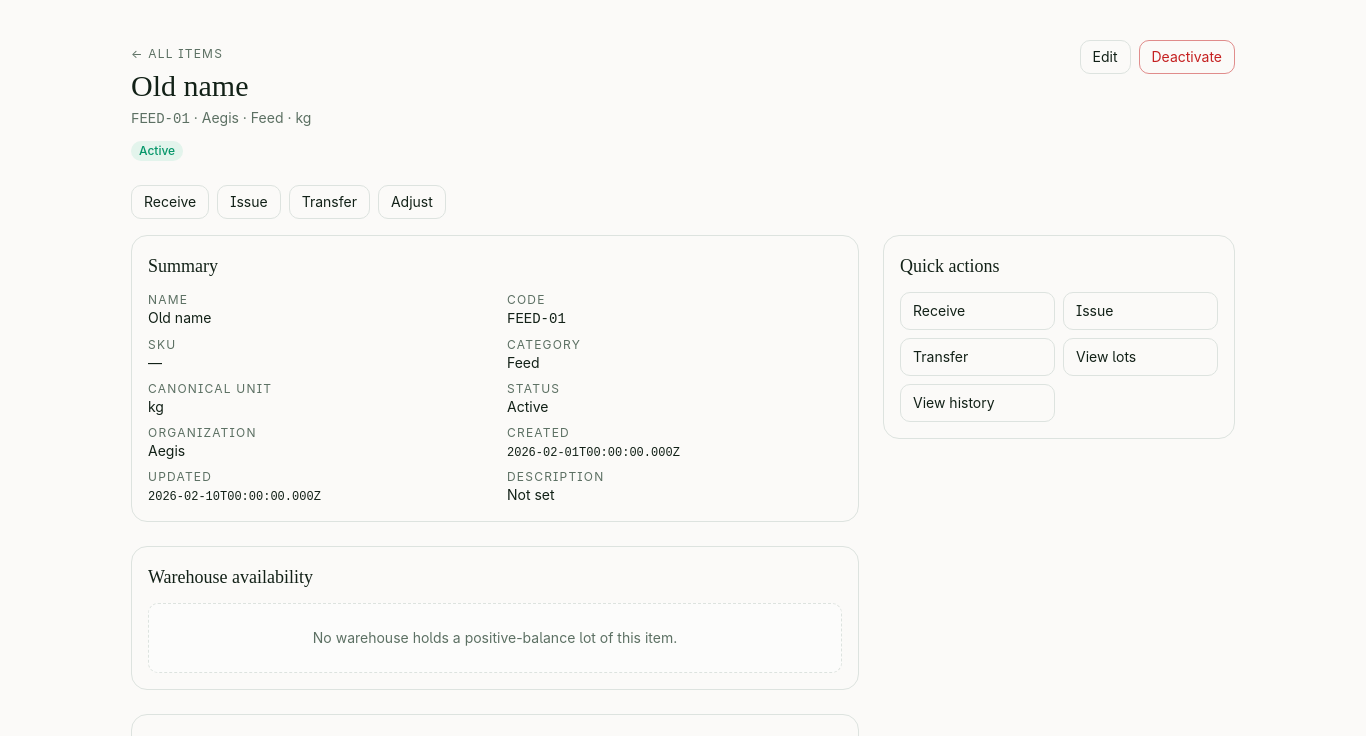
Scenario: Item edit + lifecycle › edit form submits name/description/sku via PATCH and rehydrates the header
expect the heading with test id "item-header-name" reads "Old name": met, box [131,69,248,102]
Click the button with test id "item-header-edit" at (1105, 57), box [1080,40,1130,74]
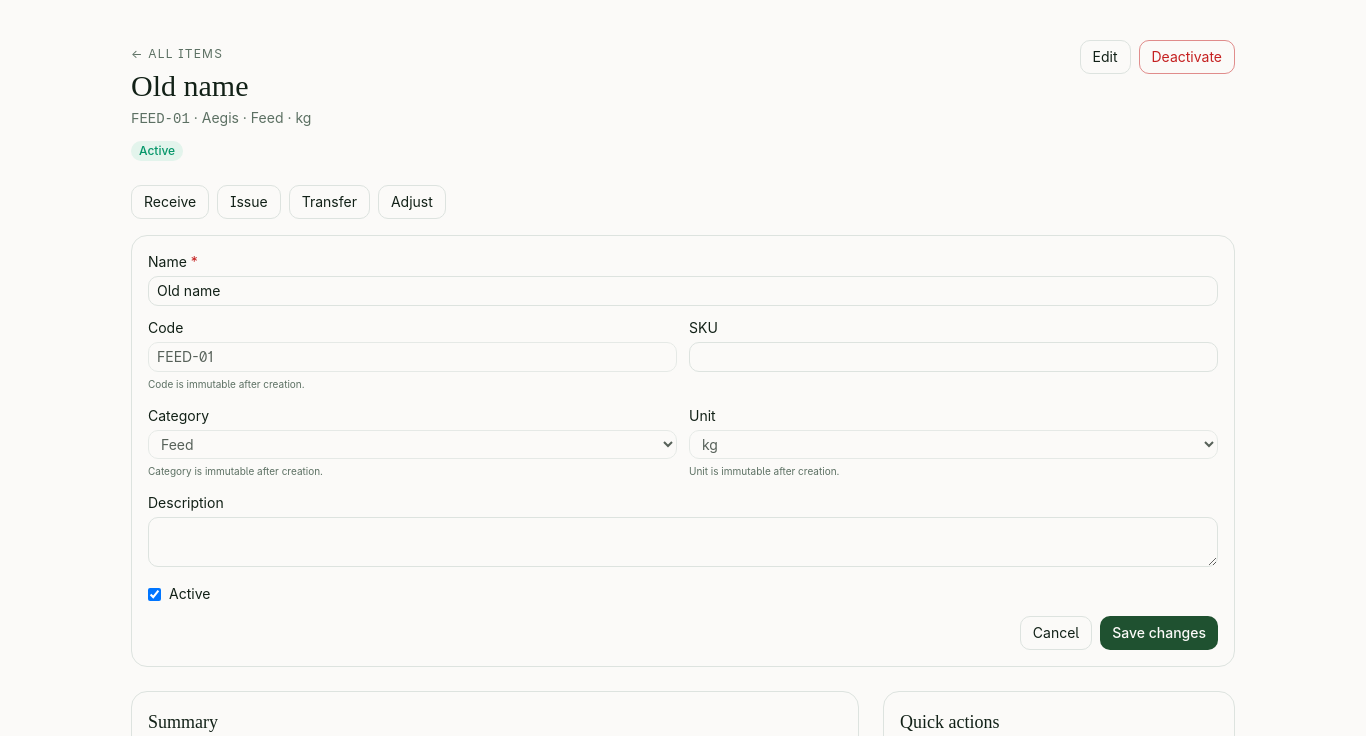
Replace the text in the field with test id "item-form-edit-name" with "New name" at (683, 291), box [148,276,1218,306]
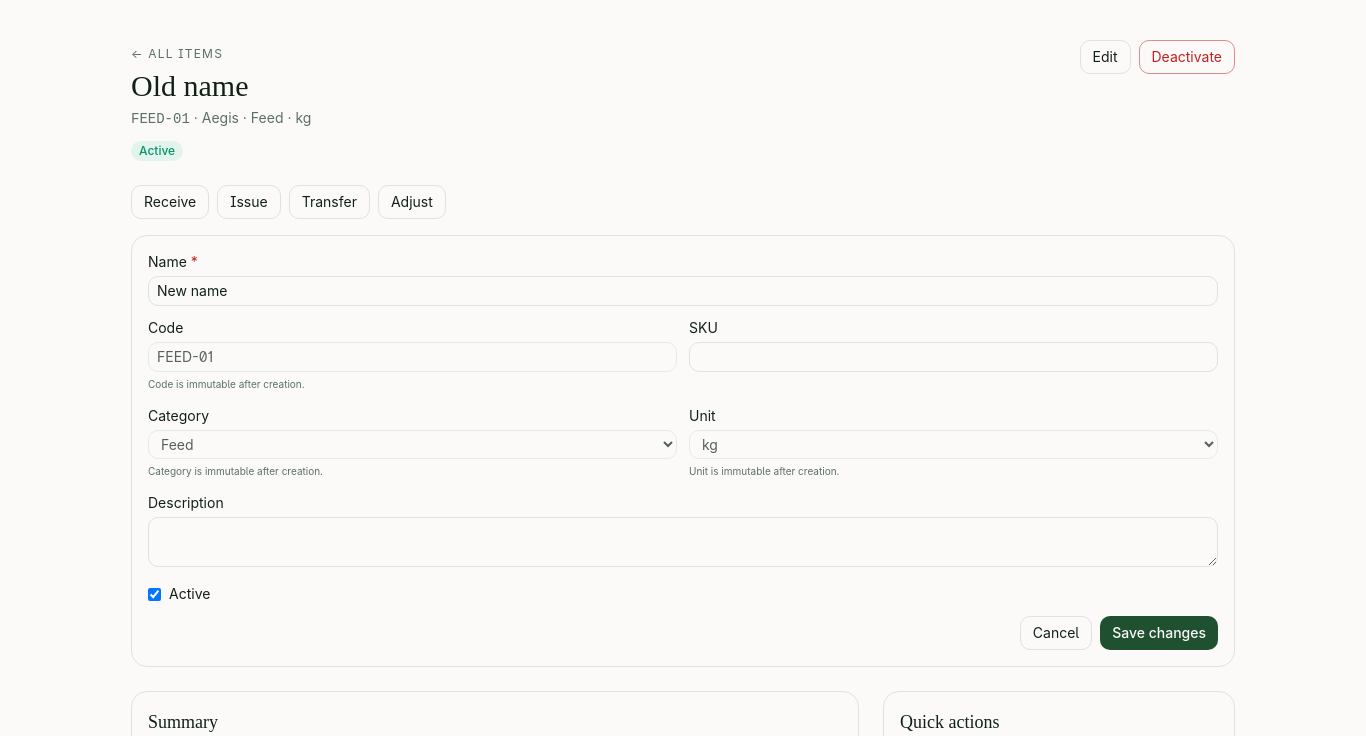
Type "SKU-ALPHA" into the field with test id "item-form-edit-sku" at (954, 357), box [689,342,1218,372]
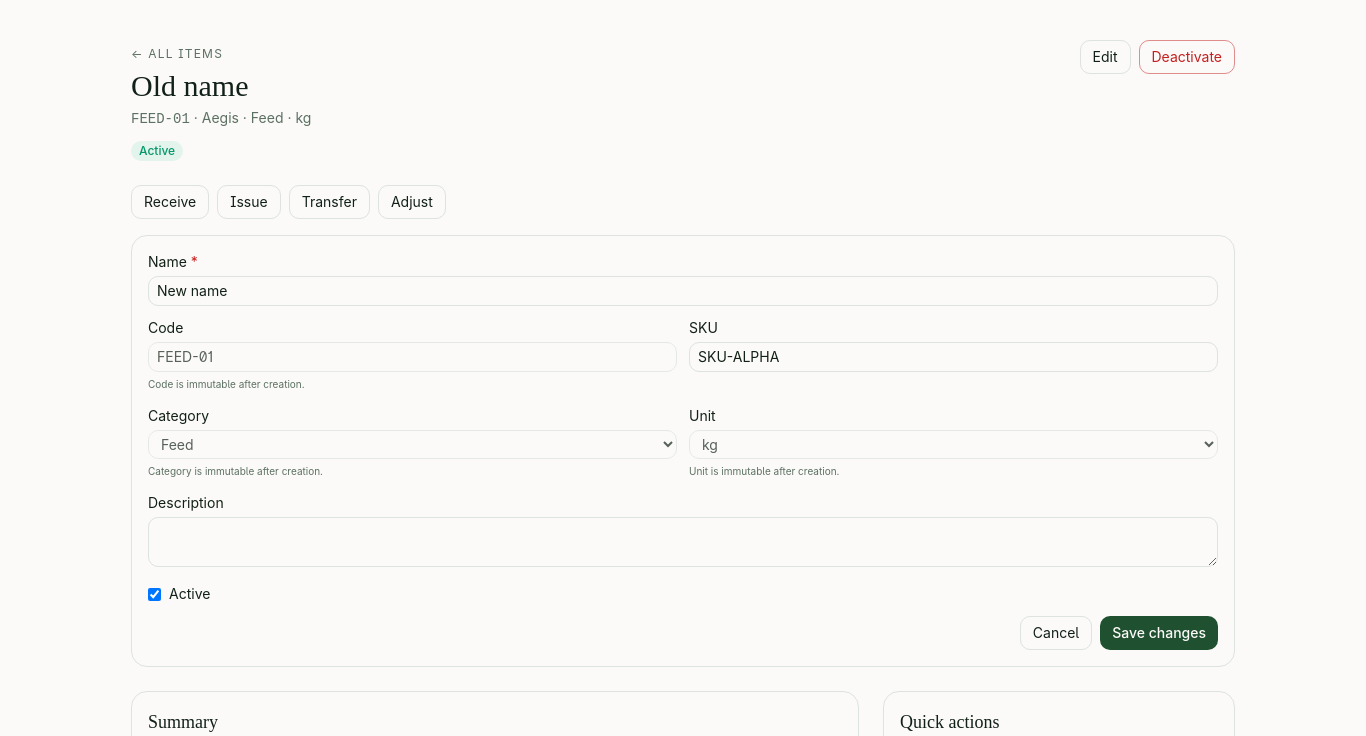
Click the button with test id "item-form-edit-submit" at (1159, 633), box [1100,616,1218,650]
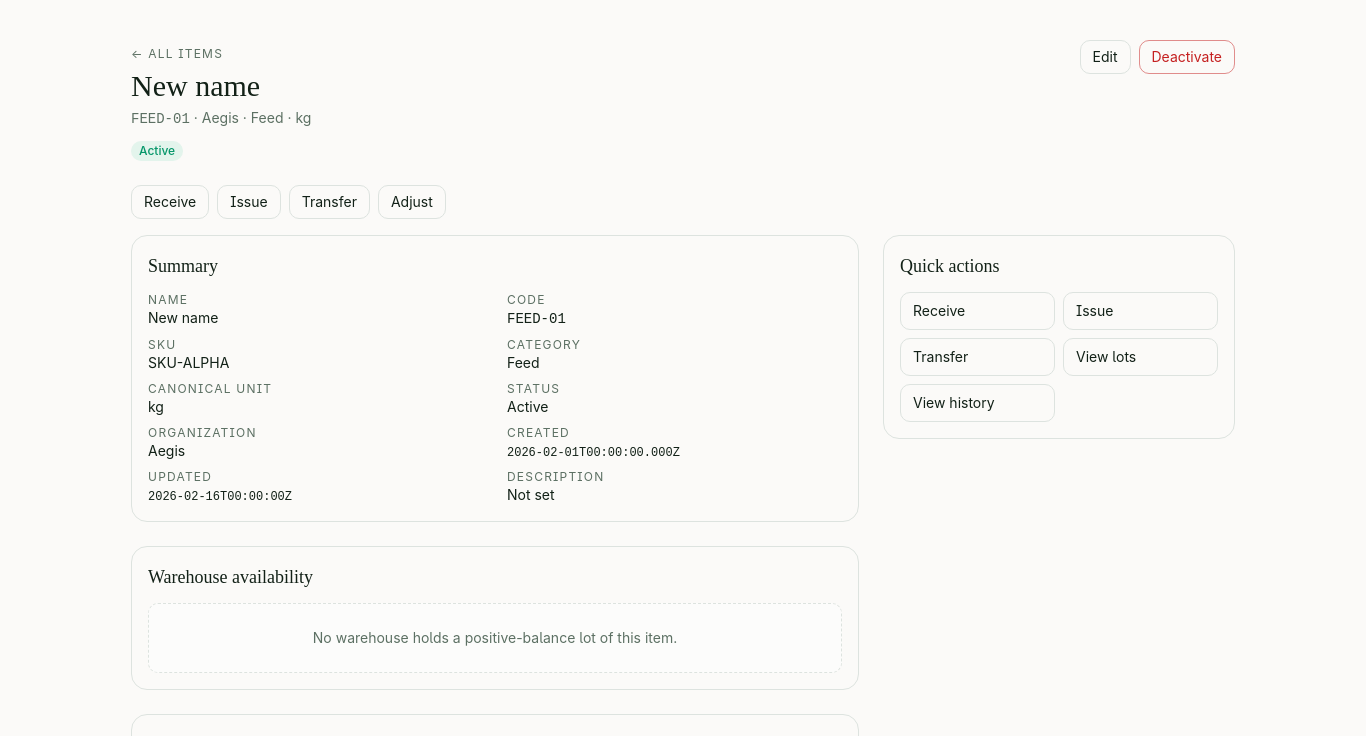
expect the heading with test id "item-header-name" reads "New name": met, box [131,69,260,102]
// Reopen edit and verify code/category/unit are disabled.
Click the button with test id "item-header-edit" at (1105, 57), box [1080,40,1130,74]
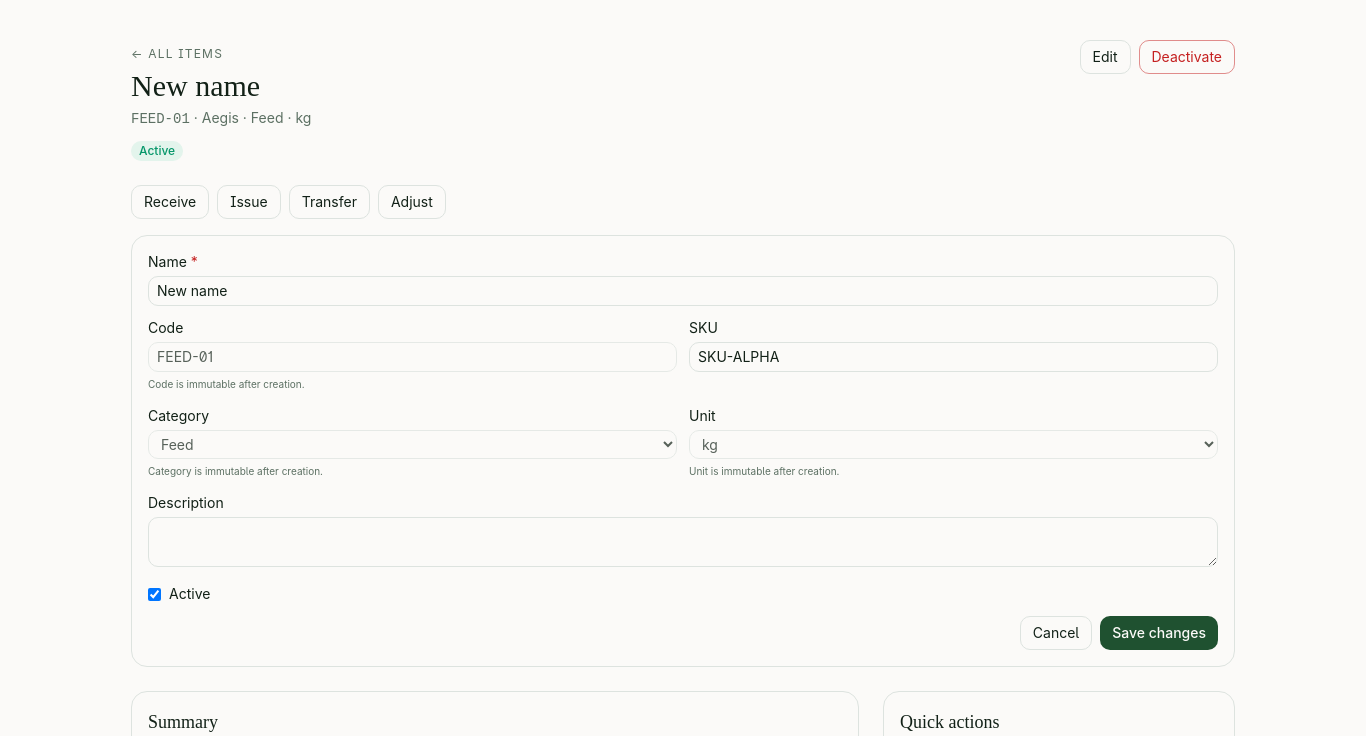
expect the field with test id "item-form-edit-code" is disabled: met, box [148,342,677,372]
expect the dropdown with test id "item-form-edit-category" is disabled: met, box [148,430,677,459]
expect the dropdown with test id "item-form-edit-unit" is disabled: met, box [689,430,1218,459]
